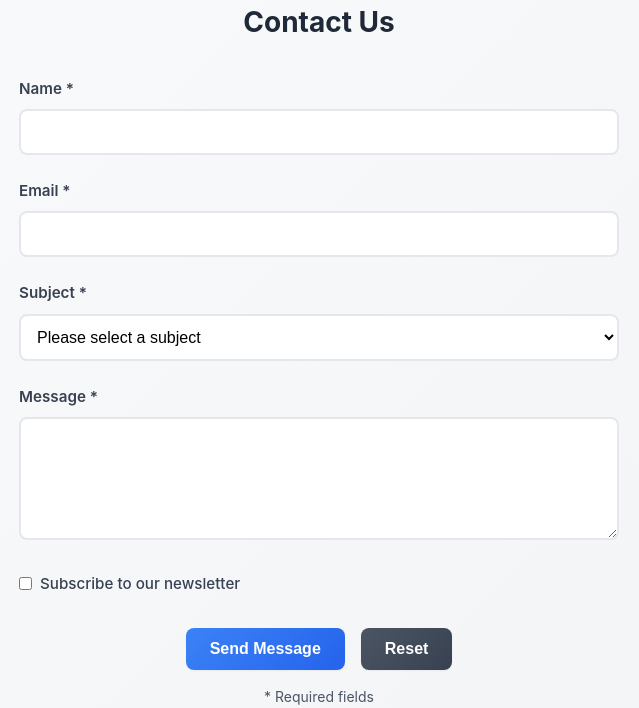
Test: Lesson 2: ContactForm Component - Forms & Async Testing › Form Validation › clears errors when user starts typing
The image size is (639, 708).
// Trigger validation error
Click the button "Send Message": (265, 649) [186,628,345,670]
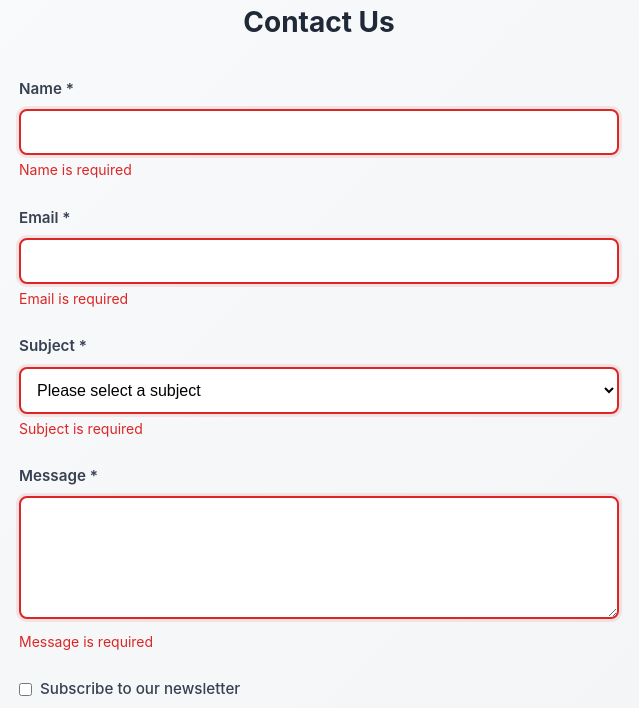
Expected: the message "Name is required" is shown, [19,161,132,178]
// Start typing to clear error
In the field labelled "Name *": (319, 132) [19,109,619,155], type "J"
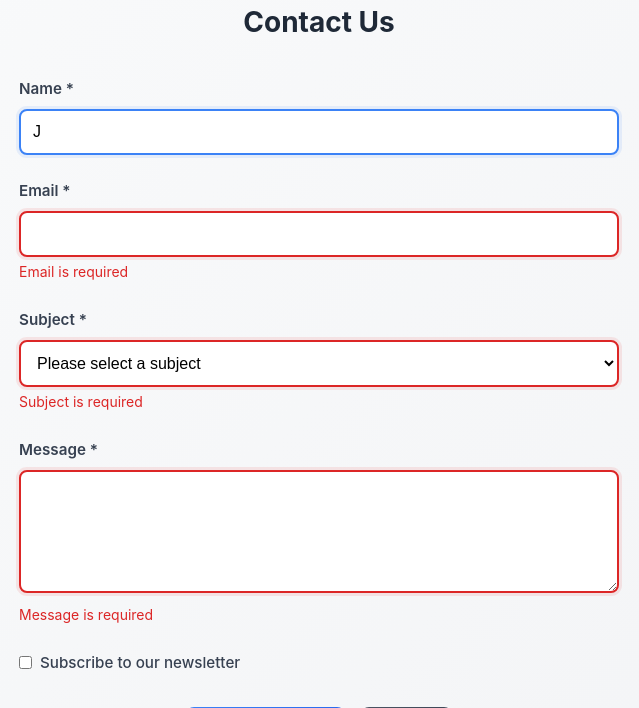
Expected: the message with test id "name-error" is gone
